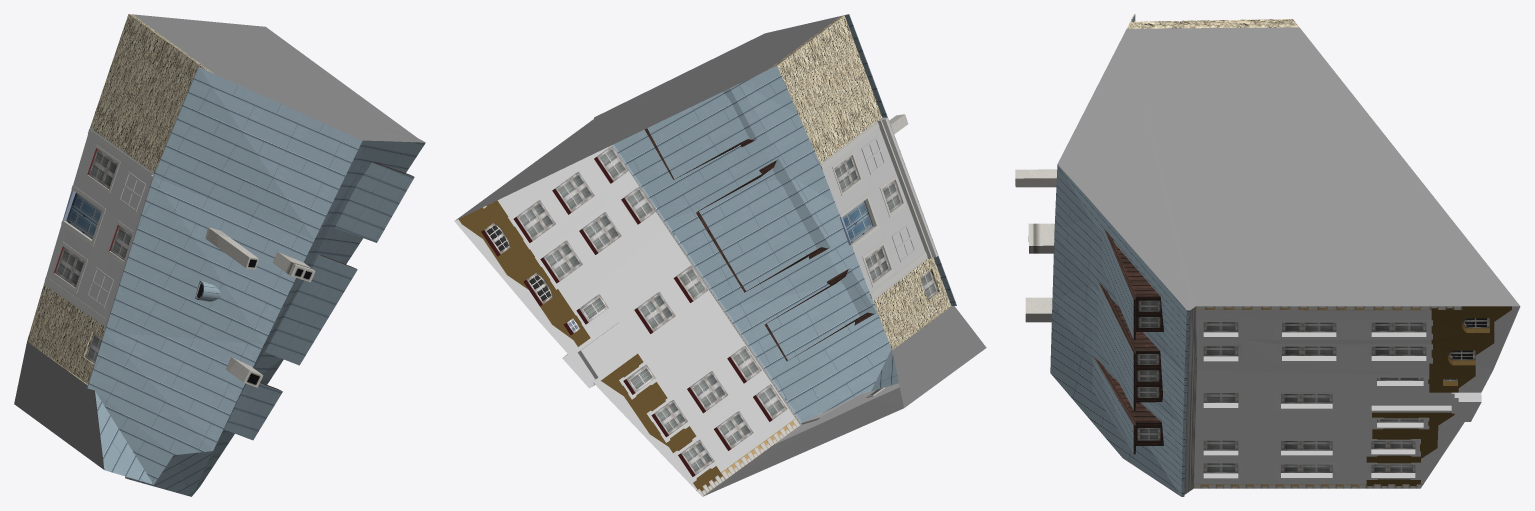
The model's file is Pikk_jalg_5.obj.
The picture shows the model from 3 angles, left to right: view 1: azimuth 30°, elevation 25°; view 2: azimuth 150°, elevation 25°; view 3: azimuth 270°, elevation 25°; orthographic projection. The views are drawn at different scales.
Parts seen in each view (by area): view 1: Pikk_jalg_5; view 2: Pikk_jalg_5; view 3: Pikk_jalg_5.
Part boxes in pixels (box(x1,y1,x2,y2)): Pikk_jalg_5: box(14, 14, 425, 496); Pikk_jalg_5: box(454, 14, 986, 496); Pikk_jalg_5: box(1015, 14, 1520, 496).
Size of the model in its own units: 19.39 by 21.9 by 21.29.
